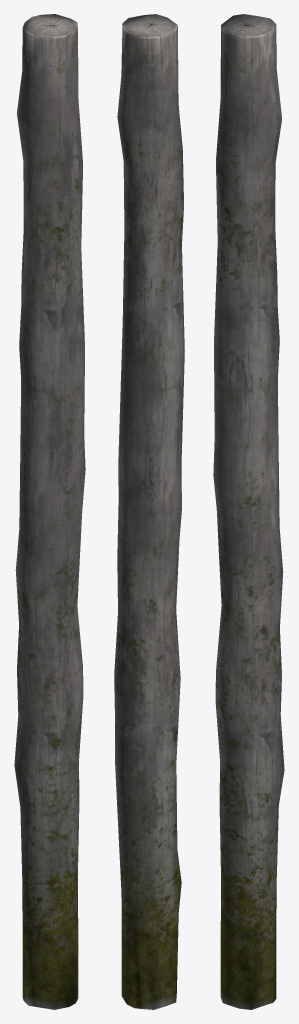
Rendered from SM_Posts_B1.fbx.
The picture shows the model from 3 angles, left to right: view 1: azimuth 90°, elevation 25°; view 2: azimuth 150°, elevation 25°; view 3: azimuth 270°, elevation 25°; orthographic projection.
Parts seen in each view (by area): view 1: SM_Posts_B1_LOD0; view 2: SM_Posts_B1_LOD0; view 3: SM_Posts_B1_LOD0.
Boxes of the visible parts, x1,y1,x2,y2 form: SM_Posts_B1_LOD0: [14, 14, 85, 1009]; SM_Posts_B1_LOD0: [114, 14, 184, 1009]; SM_Posts_B1_LOD0: [213, 14, 284, 1009].
Bounding box in the file's own units: 17.45 × 17.61 × 266.
